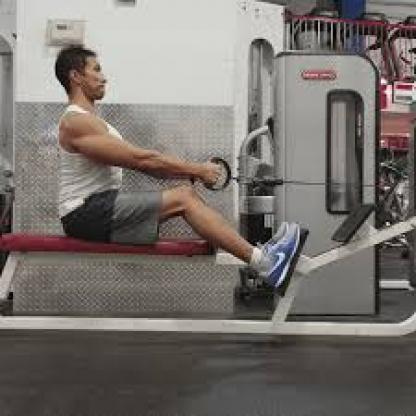Seated Cable Rows: (1, 4, 416, 335)
